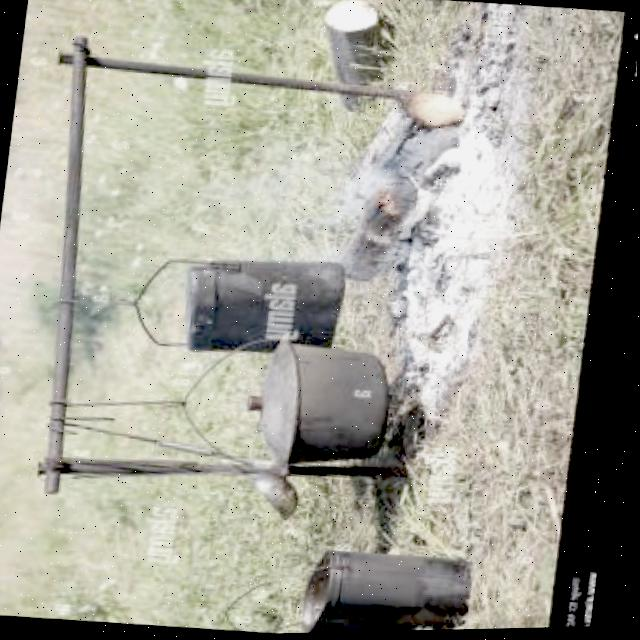Fire: (370, 190, 412, 231)
